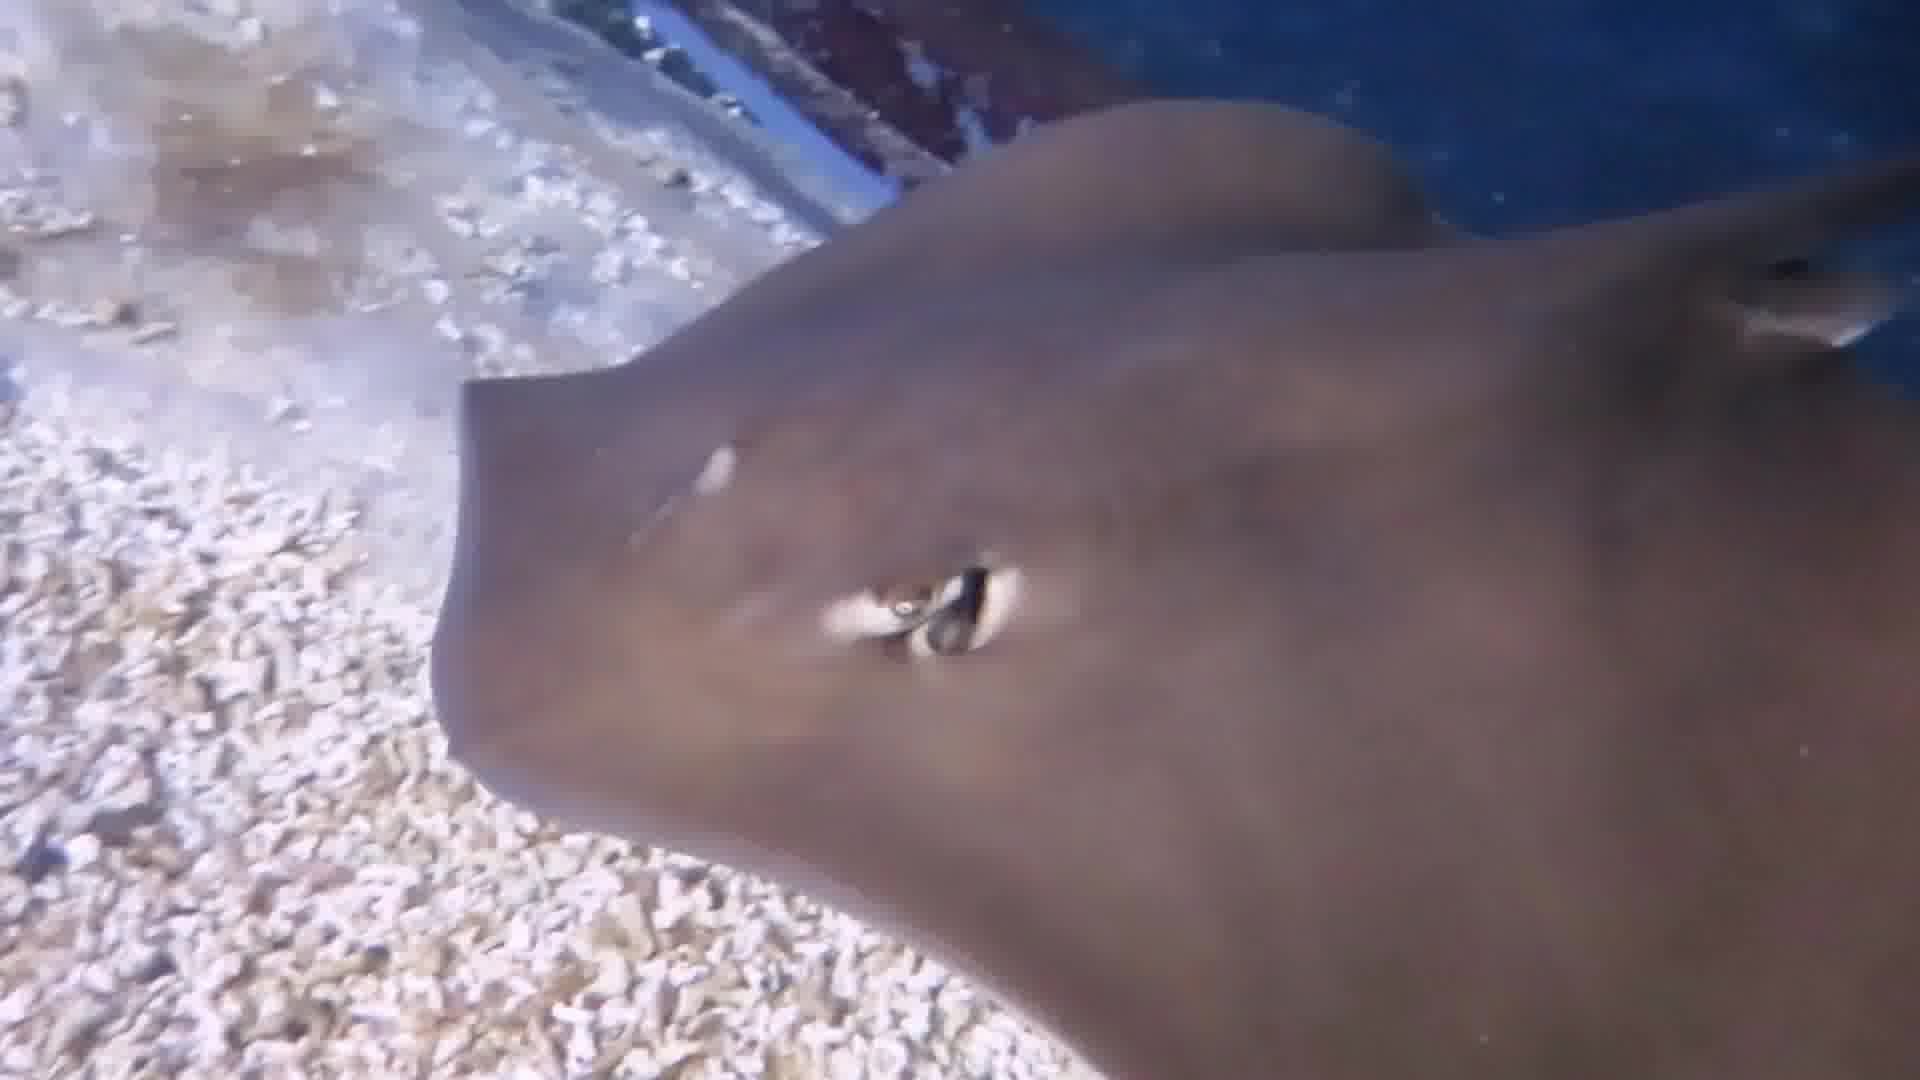Dasyatis akajei: (448, 86, 1920, 1080)
